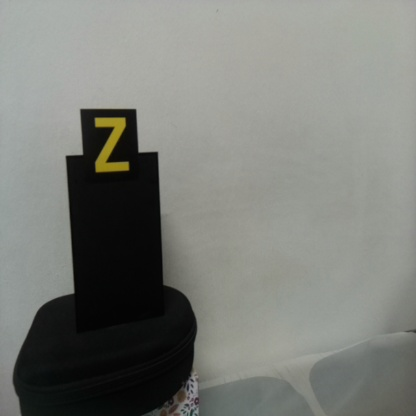id_15: (81, 109, 139, 184)
